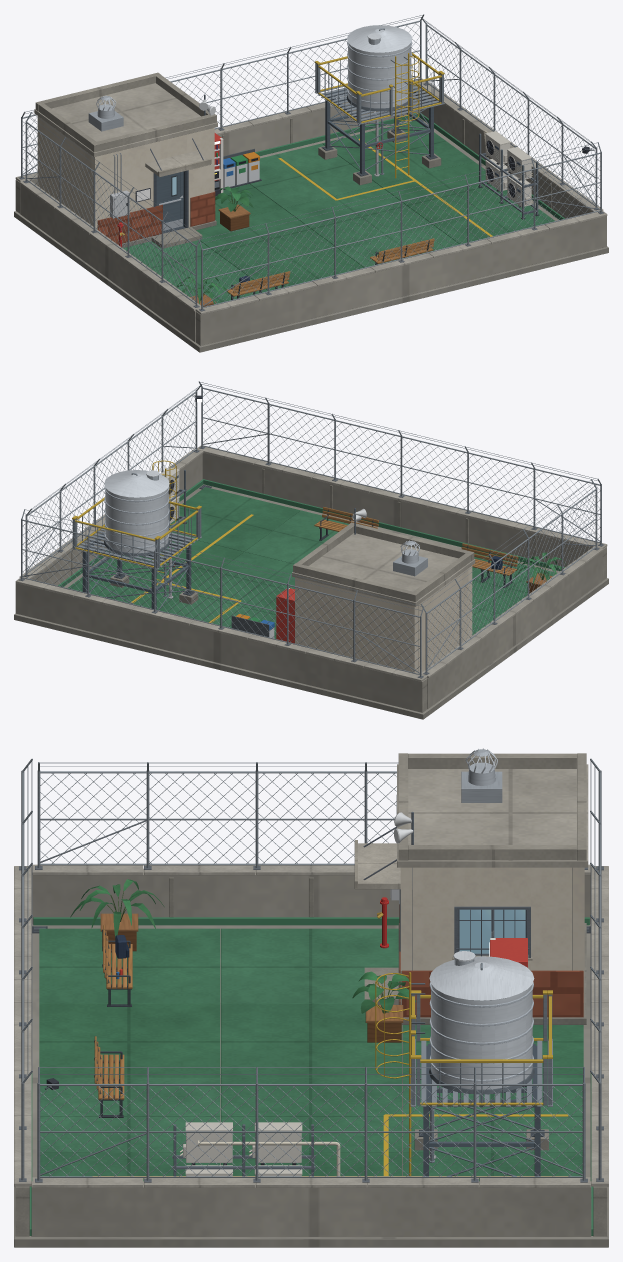
File: kr_school_rooftop_hero-mobile.glb
The picture shows the model from 3 angles, top to bottom: view 1: azimuth 30°, elevation 25°; view 2: azimuth 150°, elevation 25°; view 3: azimuth 270°, elevation 25°; orthographic projection. The views are drawn at different scales.
Parts seen in each view (by area): view 1: BG_Shell_Fixed, BG_Cutaway_Front, BG_Furnishings; view 2: BG_Shell_Fixed, BG_Cutaway_Front, BG_Furnishings; view 3: BG_Shell_Fixed, BG_Furnishings, BG_Cutaway_Front, BG_Ceiling.
Boxes of the visible parts, x1,y1,x2,y2 form: BG_Shell_Fixed: (14,14,608,352); BG_Cutaway_Front: (19,112,607,345); BG_Furnishings: (88,25,594,306); BG_Shell_Fixed: (14,384,608,719); BG_Cutaway_Front: (197,381,607,709); BG_Furnishings: (71,395,566,643); BG_Shell_Fixed: (14,753,608,1247); BG_Furnishings: (45,748,552,1178); BG_Cutaway_Front: (14,758,590,1236); BG_Ceiling: (459,909,525,956).
Size of the model in its own units: 14 by 4.49 by 11.
2 materials, 2 textured.
